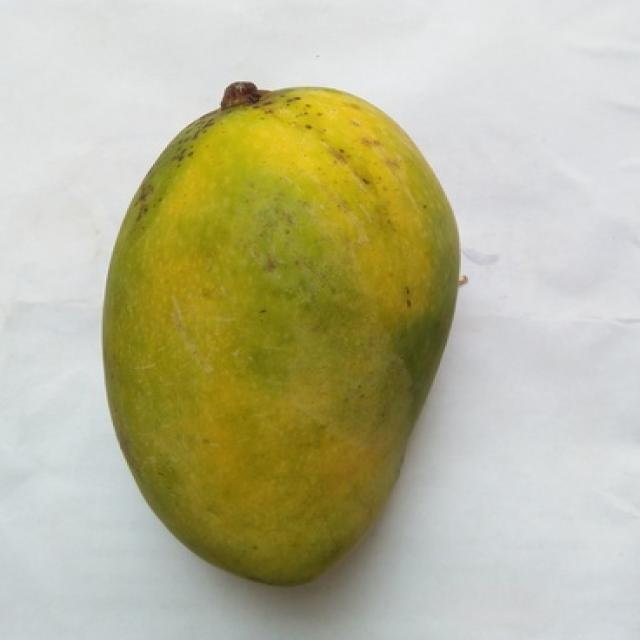Mango: (103, 83, 463, 583)
